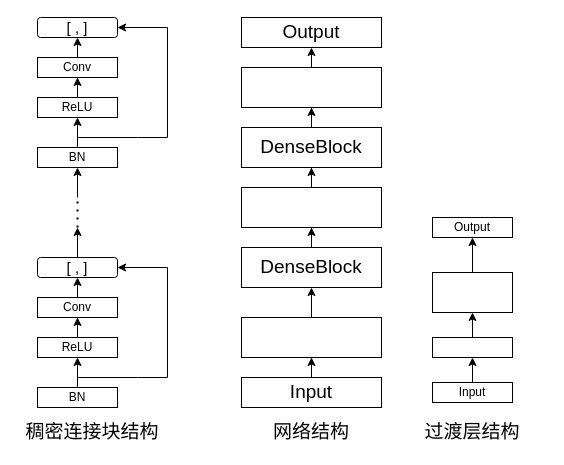
Some shapes in this 564 by 465 pixel diagram are drawn without their labels. The shapes that lost their labels are listed below. From the top down, each one's centre as x and y in pixels, then its label:
At (x=311, y=87): "Full connect".
At (x=311, y=207): "Transition Layer".
At (x=472, y=292): "AvgPool, stride=2".
At (x=311, y=337): "7*7conv, Maxpool".
At (x=472, y=347): "1*1 Conv".
